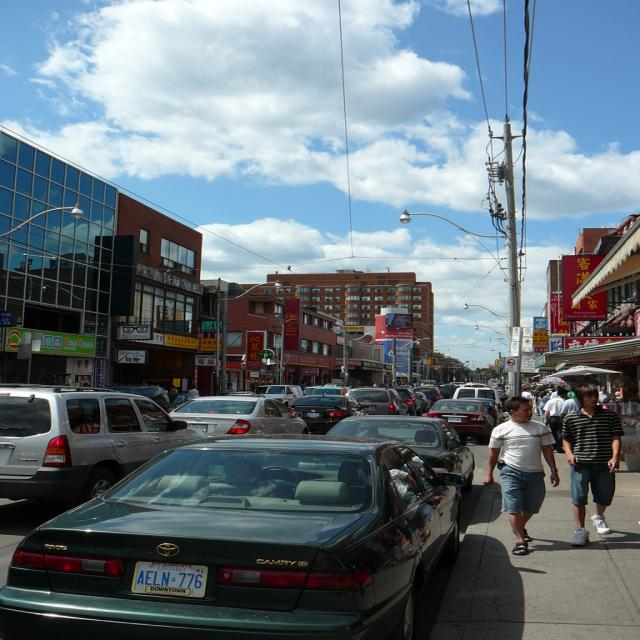car: (13, 443, 455, 628)
